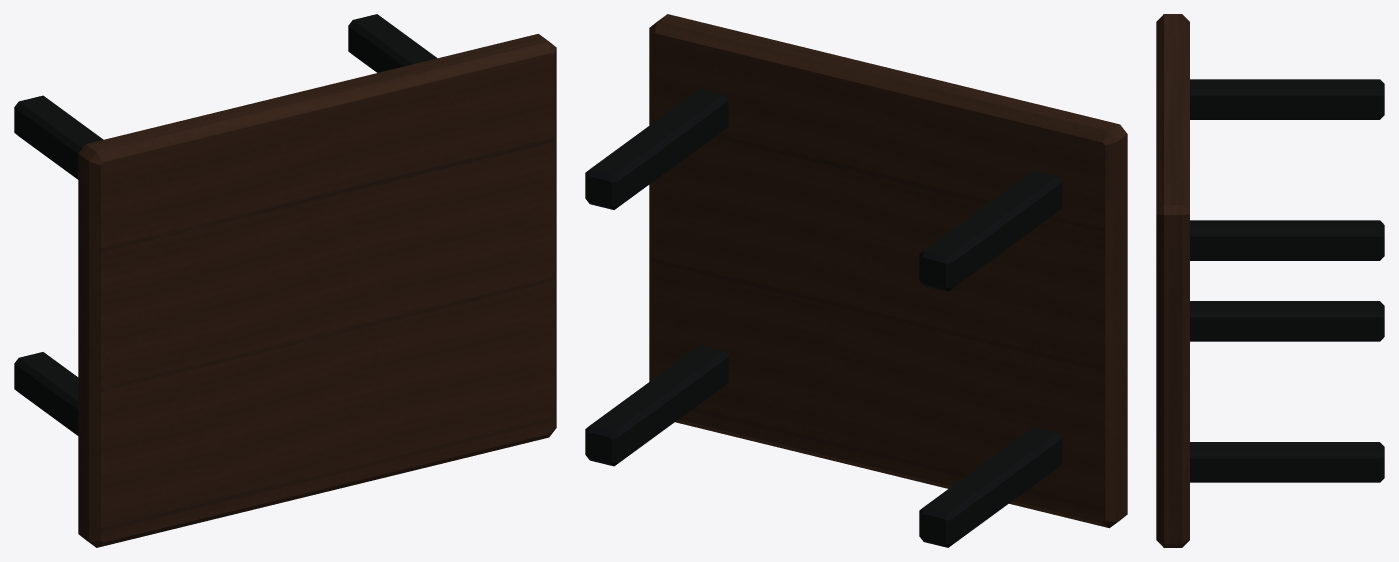
File: garden_coffee.obj
The picture shows the model from 3 angles, left to right: view 1: azimuth 30°, elevation 25°; view 2: azimuth 150°, elevation 25°; view 3: azimuth 270°, elevation 25°; orthographic projection. The views are drawn at different scales.
Visible parts, largest first — view 1: garden_coffee_walnut, garden_coffee_frame; view 2: garden_coffee_walnut, garden_coffee_frame; view 3: garden_coffee_frame, garden_coffee_walnut.
Part boxes in pixels (x1,y1,x2,y2): garden_coffee_walnut: [78, 33, 556, 547]; garden_coffee_frame: [14, 14, 437, 435]; garden_coffee_walnut: [649, 14, 1127, 528]; garden_coffee_frame: [585, 89, 1062, 547]; garden_coffee_frame: [1190, 79, 1384, 482]; garden_coffee_walnut: [1156, 14, 1189, 547].
Size of the model in its own units: 42 by 34 by 20.5.
Materials: 2 (2 with a texture image).
